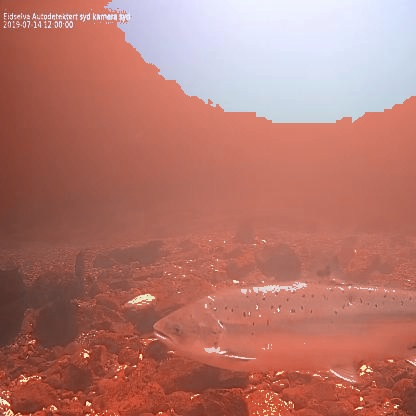salmon: (151, 252, 416, 385)
